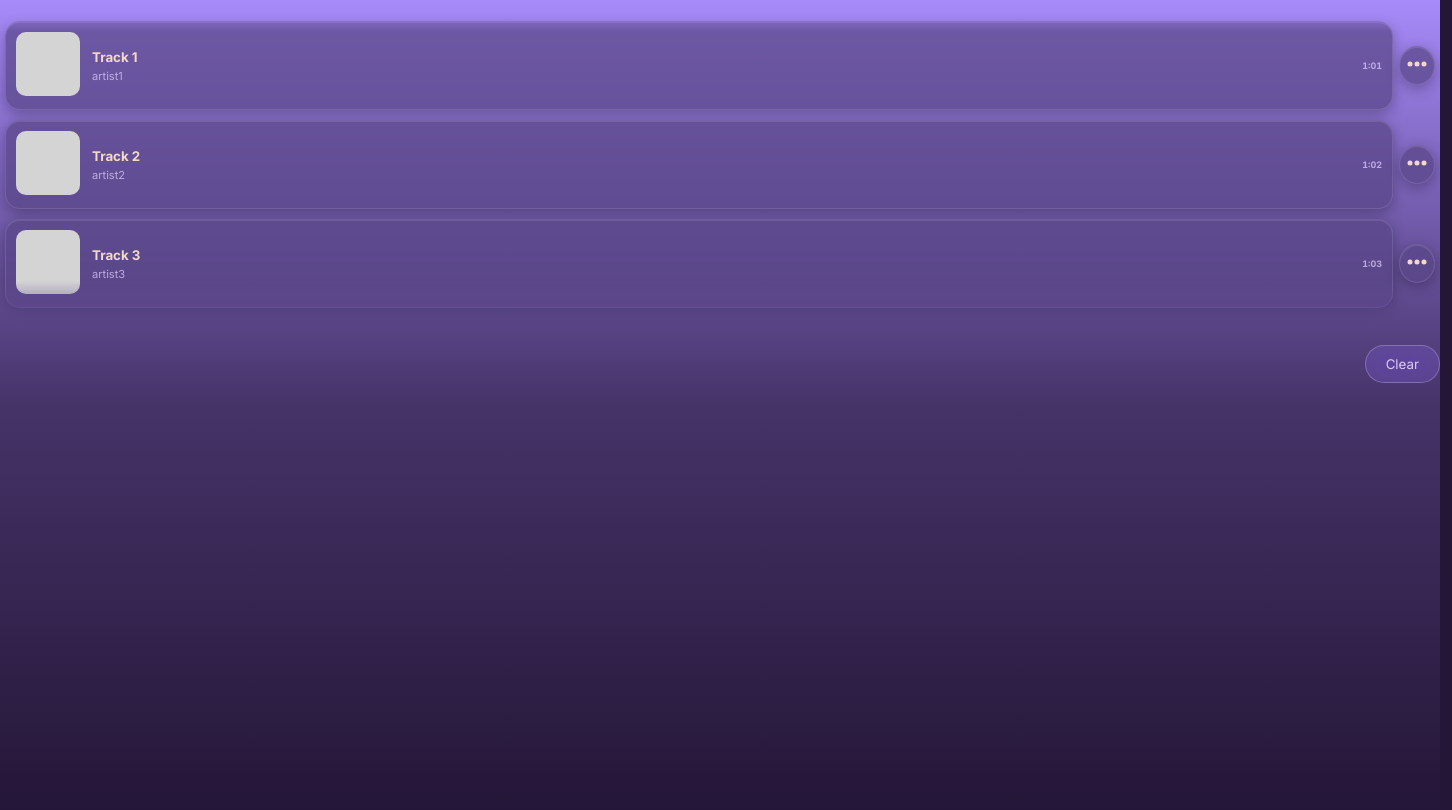
Test: FavoritesList › Clear button › empties favorites and shows a snackbar
This screenshot has width=1452, height=810.
Click the button "Clear". click: (1402, 364)
box: [1365, 345, 1440, 383]
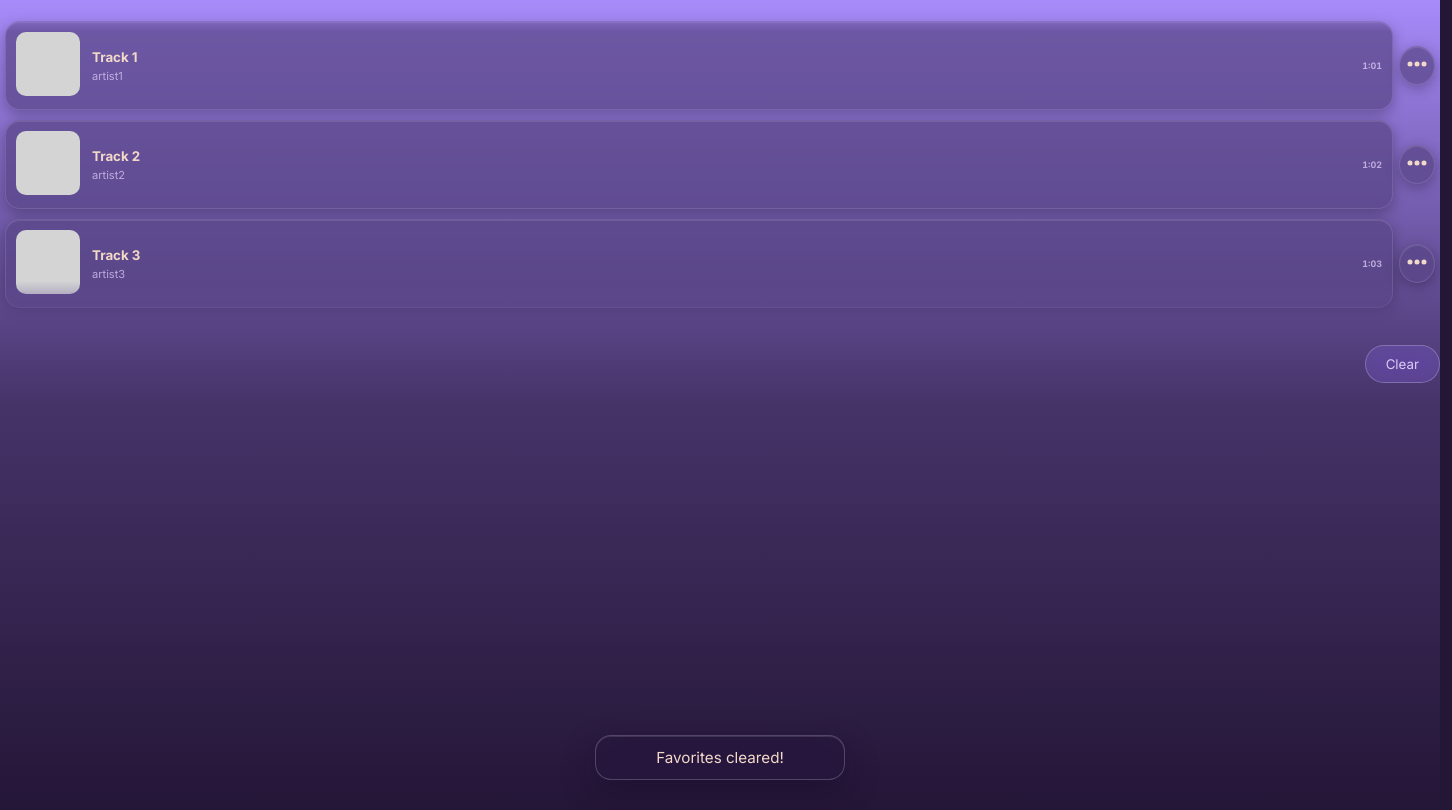
Result: the text with id "snackbar" reads "Favorites cleared!" at [656, 748, 784, 767]
